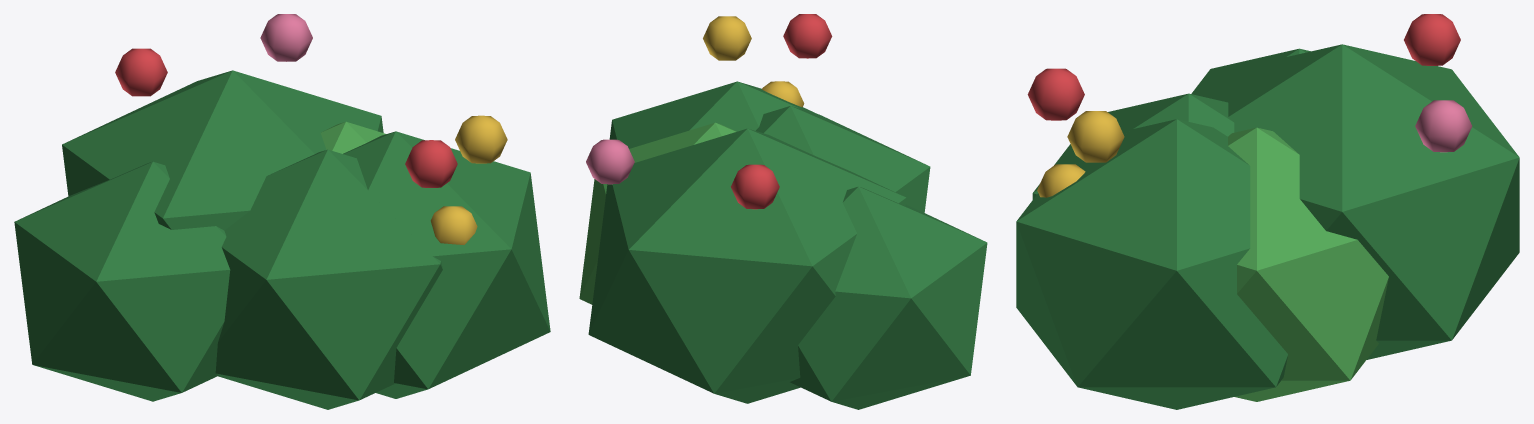
Rendered from bush_a.glb.
The picture shows the model from 3 angles, left to right: view 1: azimuth 30°, elevation 25°; view 2: azimuth 150°, elevation 25°; view 3: azimuth 270°, elevation 25°; orthographic projection. The views are drawn at different scales.
Parts seen in each view (by area): view 1: bush_a; view 2: bush_a; view 3: bush_a.
Part boxes in pixels (x1=…): bush_a: x1=14, y1=14, x2=550, y2=409; bush_a: x1=579, y1=14, x2=987, y2=409; bush_a: x1=1016, y1=14, x2=1519, y2=409.
Size of the model in its own units: 1.35 by 0.8962 by 1.23.
